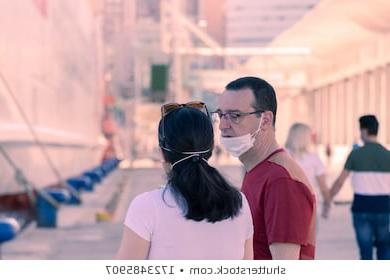mask_weared_incorrect: (216, 101, 260, 155)
